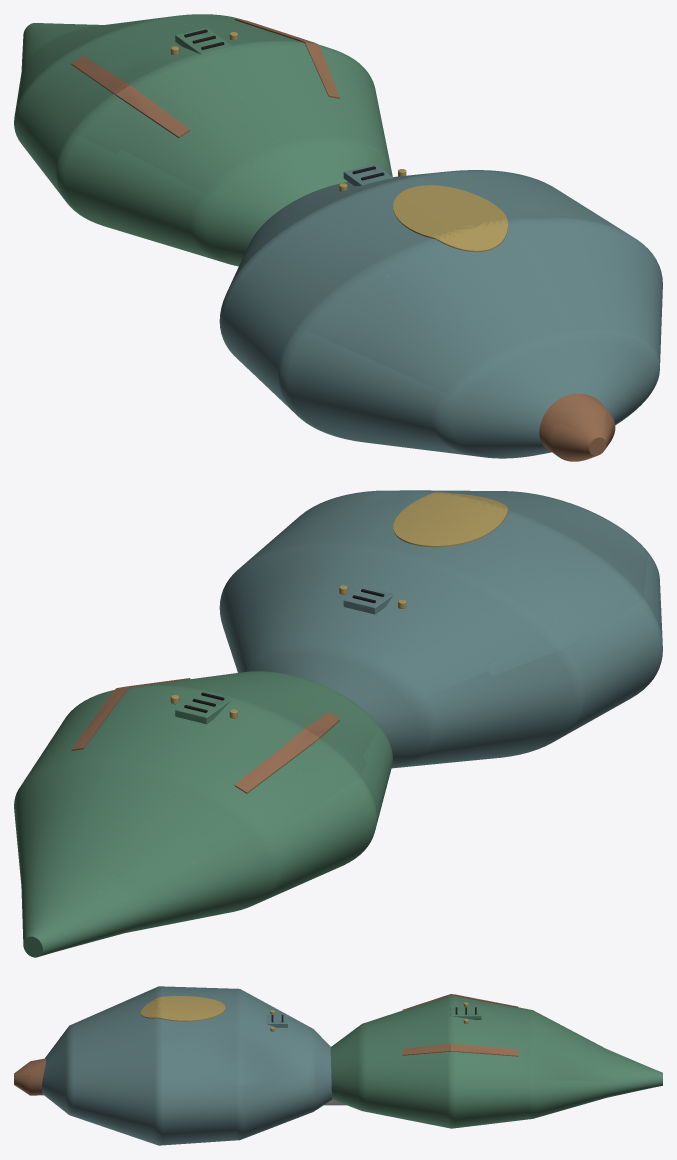
3 views of the same model, one above another, from view 1: azimuth 30°, elevation 25°; view 2: azimuth 150°, elevation 25°; view 3: azimuth 270°, elevation 25° (orthographic). The views are drawn at different scales.
Visible parts, largest first — view 1: Transportation slate forward module, Transportation green aft module, Transportation gold forward patch, Transportation copper terminal, Transportation copper aft trim -1, Transportation copper aft trim 1, Transportation service cover 1; view 2: Transportation slate forward module, Transportation green aft module, Transportation gold forward patch, Transportation copper aft trim -1, Transportation service cover 1, Transportation copper aft trim 1, Transportation service cover 0; view 3: Transportation slate forward module, Transportation green aft module, Transportation gold forward patch, Transportation copper aft trim 1, Transportation copper terminal, Transportation service cover 1.
Boxes of the visible parts, bbox=[...] form: Transportation slate forward module: bbox=[219, 170, 662, 458]; Transportation green aft module: bbox=[14, 14, 392, 266]; Transportation gold forward patch: bbox=[393, 185, 507, 252]; Transportation copper terminal: bbox=[539, 393, 615, 461]; Transportation copper aft trim -1: bbox=[71, 55, 190, 137]; Transportation copper aft trim 1: bbox=[234, 19, 339, 98]; Transportation service cover 1: bbox=[175, 27, 233, 54]; Transportation slate forward module: bbox=[219, 490, 662, 768]; Transportation green aft module: bbox=[14, 671, 392, 957]; Transportation gold forward patch: bbox=[393, 492, 507, 547]; Transportation copper aft trim -1: bbox=[234, 712, 339, 793]; Transportation service cover 1: bbox=[175, 690, 233, 724]; Transportation copper aft trim 1: bbox=[71, 678, 190, 750]; Transportation service cover 0: bbox=[343, 586, 393, 614]; Transportation slate forward module: bbox=[42, 986, 331, 1145]; Transportation green aft module: bbox=[330, 995, 662, 1128]; Transportation gold forward patch: bbox=[141, 996, 225, 1021]; Transportation copper aft trim 1: bbox=[402, 1043, 518, 1056]; Transportation copper terminal: bbox=[14, 1058, 45, 1095]; Transportation service cover 1: bbox=[450, 1007, 481, 1019].
Size of the model in its own units: 1.56 by 0.8047 by 3.99.
Materials: 6 (3 with a texture image).
